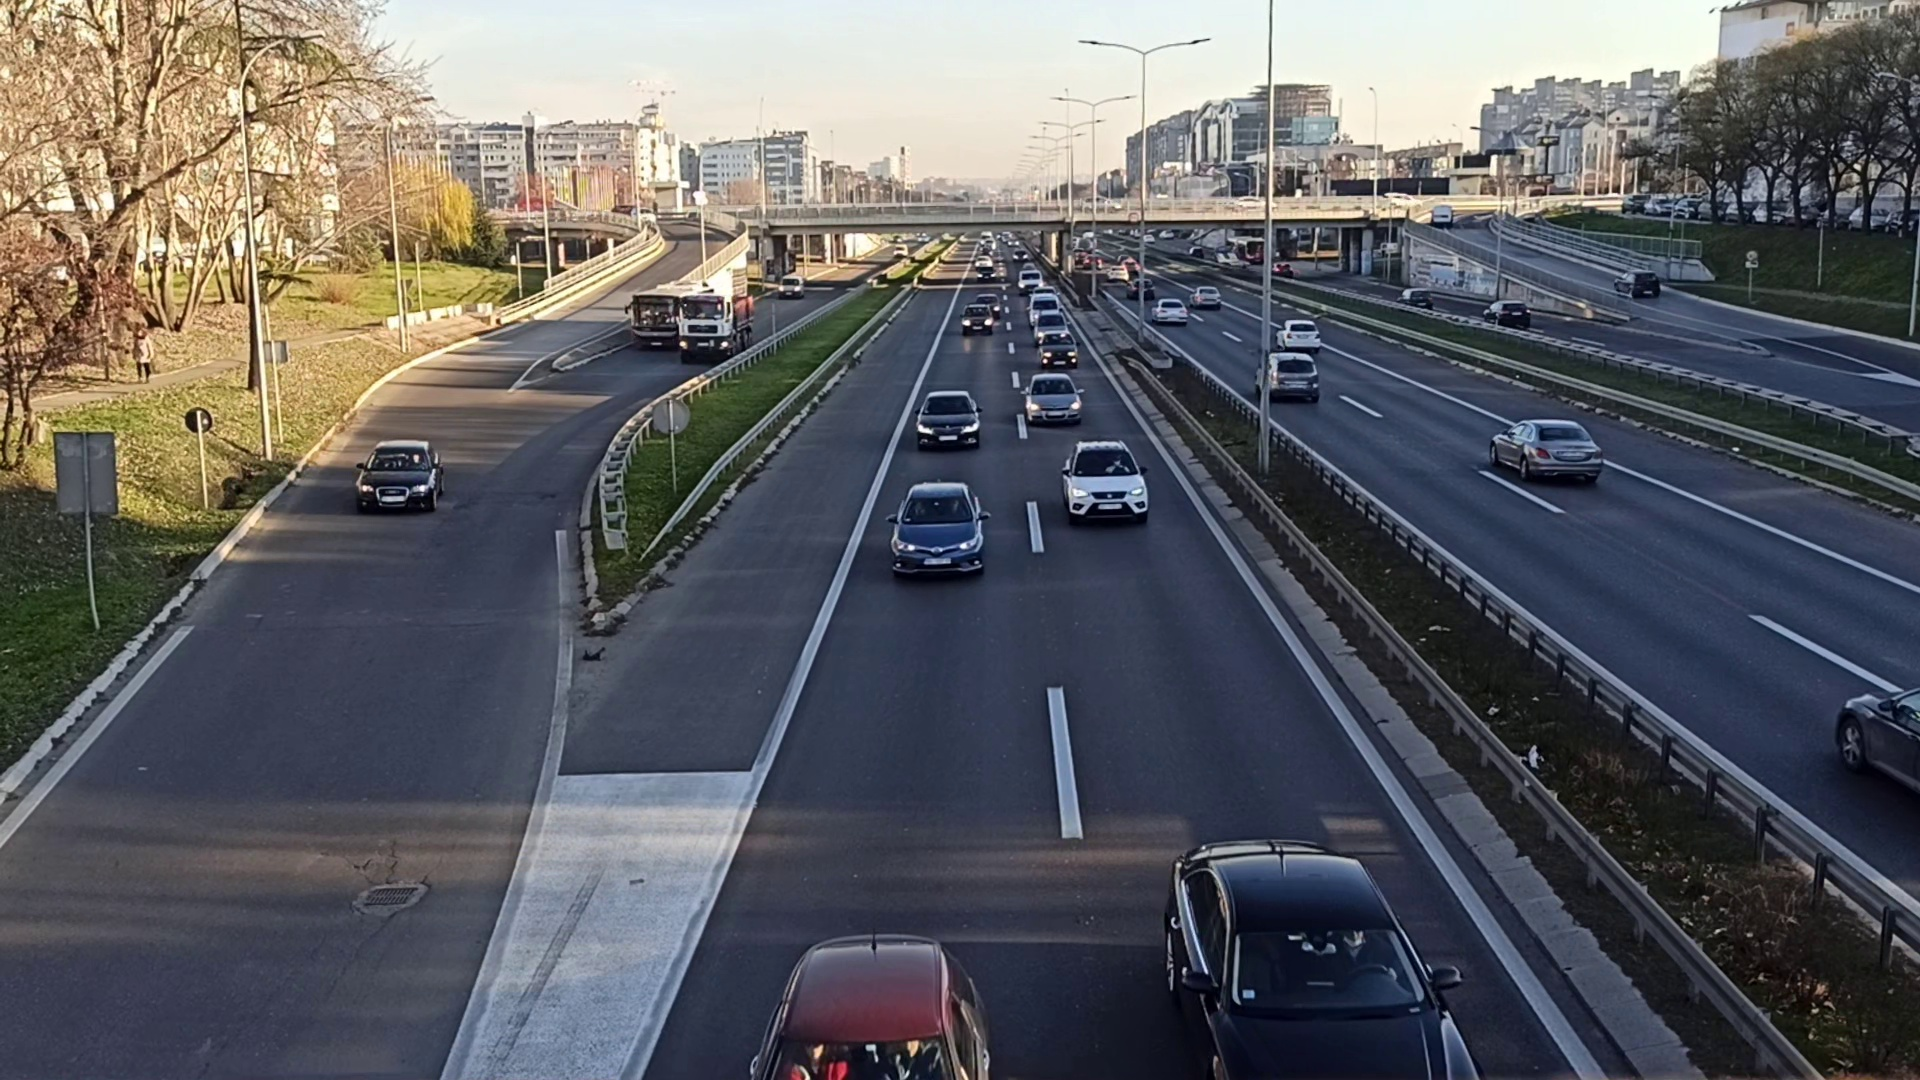bus: (632, 293, 682, 351)
car: (890, 473, 990, 578), (1054, 433, 1149, 529), (1487, 414, 1602, 488), (349, 434, 447, 514), (913, 388, 980, 450), (1021, 377, 1085, 429), (960, 305, 998, 339)
truck: (680, 291, 760, 363)
